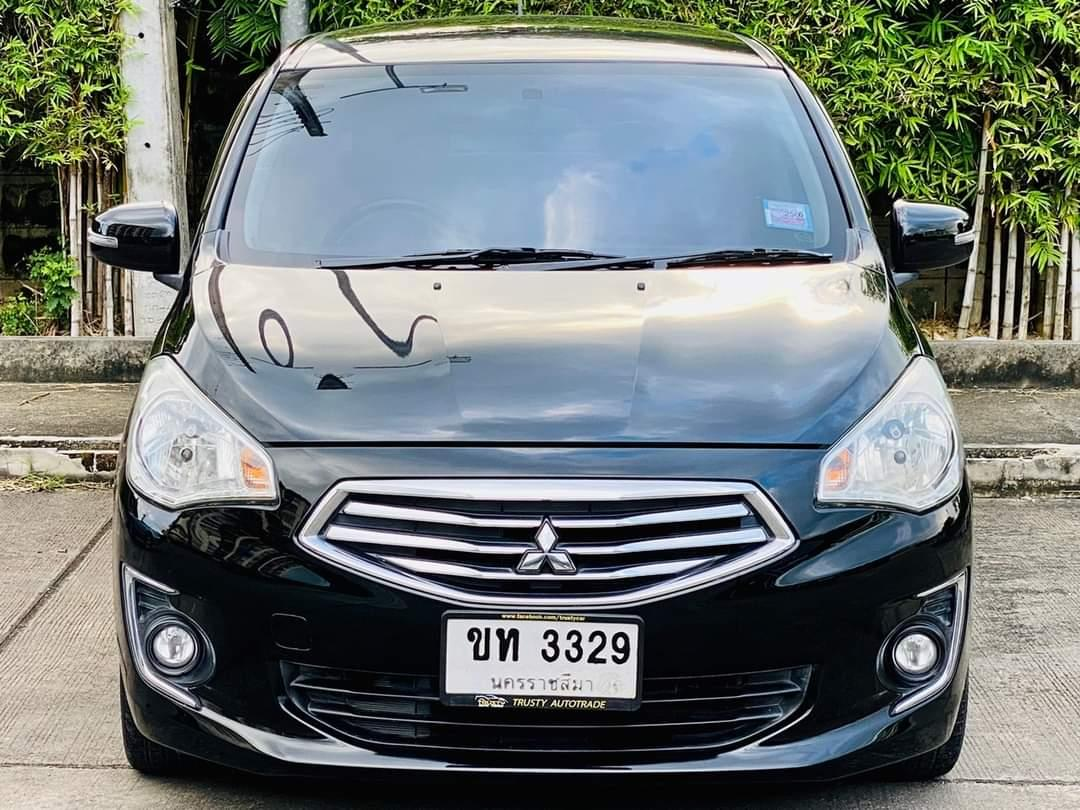license-plate: (430, 604, 651, 719)
